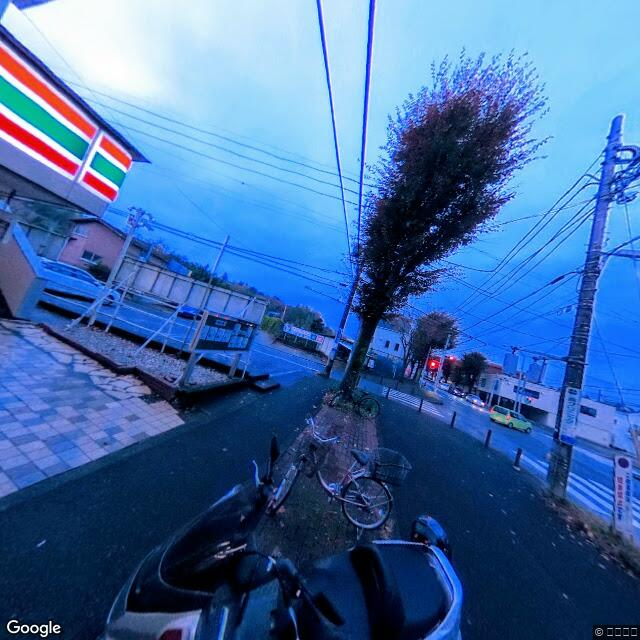7-eleven: (1, 43, 128, 231)
